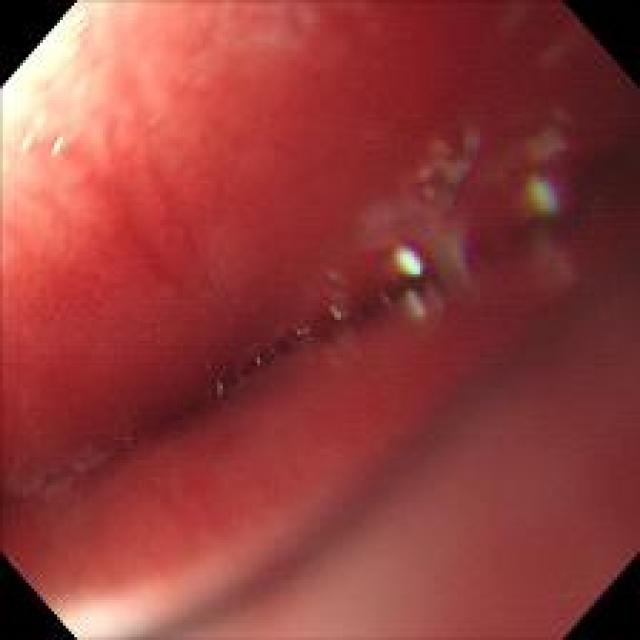blur: (4, 1, 634, 635)
bubbles: (205, 331, 286, 411), (264, 304, 320, 358), (310, 285, 351, 329), (119, 420, 154, 448)
color misalignment: (365, 218, 510, 330), (409, 128, 482, 282), (516, 152, 585, 244)
saturation: (1, 0, 101, 145)
specularity: (398, 248, 422, 280), (21, 132, 34, 151), (54, 136, 65, 155)
